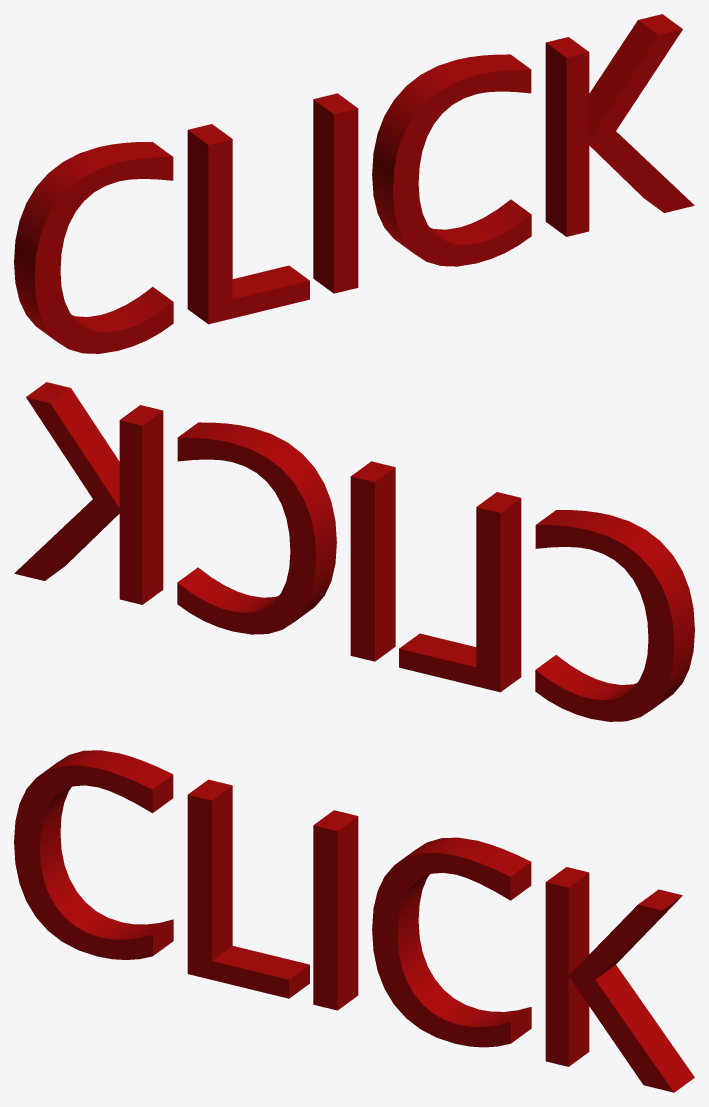
File: Clicker.fbx
3 renders of one model, top to bottom at view 1: azimuth 30°, elevation 25°; view 2: azimuth 150°, elevation 25°; view 3: azimuth 330°, elevation 25°, orthographic.
Visible parts, largest first — view 1: typeMesh1; view 2: typeMesh1; view 3: typeMesh1.
Boxes of the visible parts, bbox=[...] form: typeMesh1: bbox=[14, 14, 694, 353]; typeMesh1: bbox=[14, 382, 694, 721]; typeMesh1: bbox=[14, 750, 694, 1092].
Bounding box in the file's own units: 3.78 × 1.03 × 0.2053.
